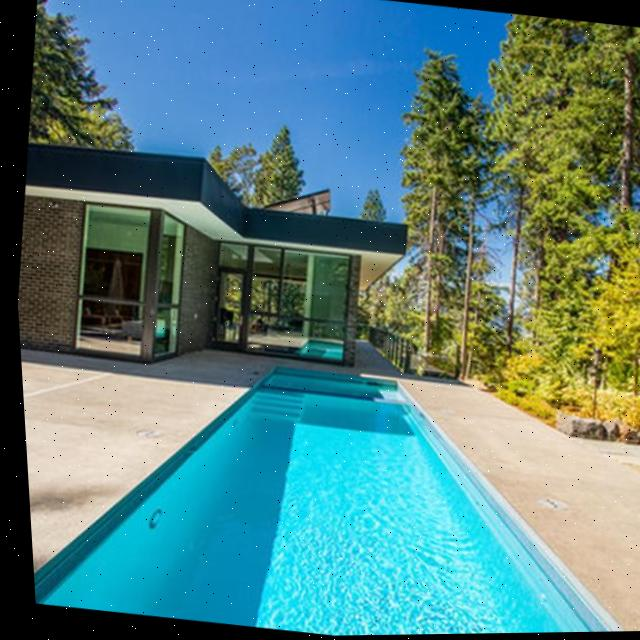building: (8, 133, 423, 400)
